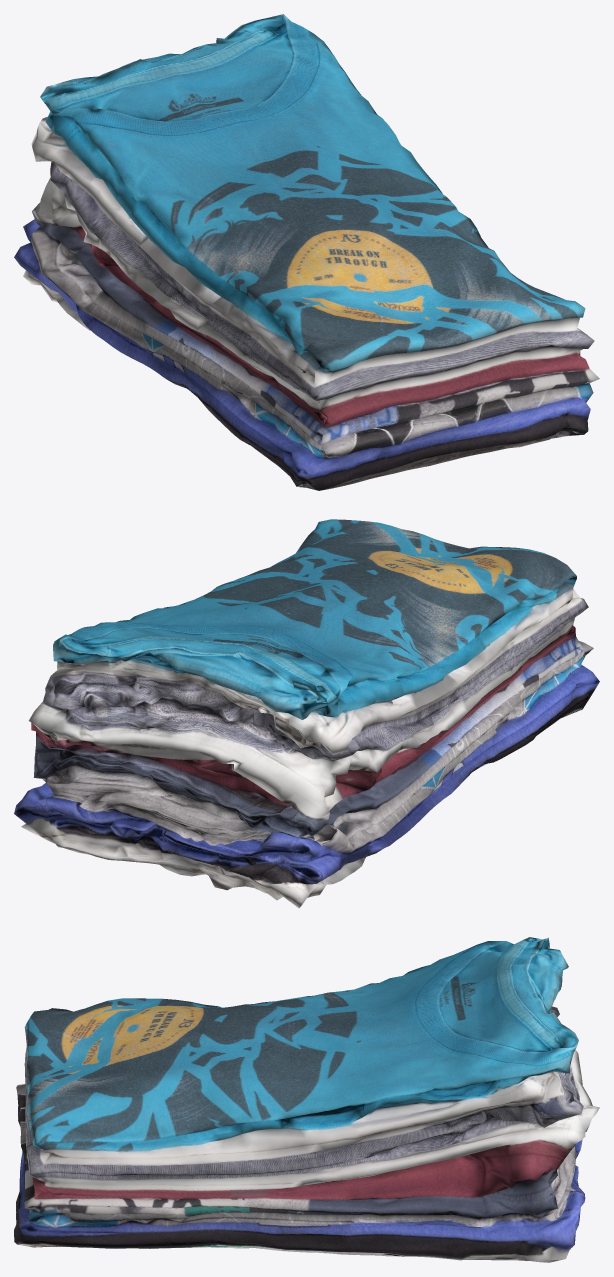
File: ShirtCelle.fbx
3 renders of one model, top to bottom at view 1: azimuth 30°, elevation 25°; view 2: azimuth 150°, elevation 25°; view 3: azimuth 270°, elevation 25°, orthographic. The views are drawn at different scales.
Visible parts, largest first — view 1: LOW; view 2: LOW; view 3: LOW.
Part boxes in pixels (x1,y1,x2,y2): LOW: [14, 14, 599, 490]; LOW: [14, 519, 599, 908]; LOW: [14, 937, 599, 1262].
Size of the model in its own units: 23.92 by 15.71 by 39.51.
Materials: 1 (1 with a texture image).
